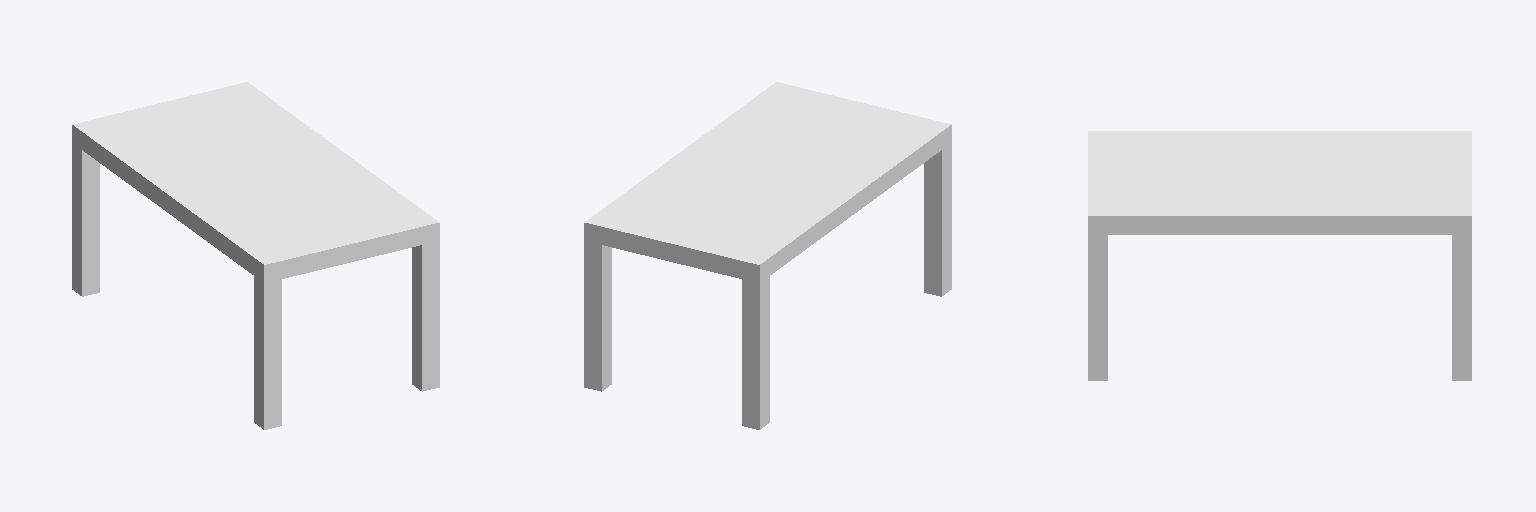
Rendered from Table01.obj.
The picture shows the model from 3 angles: view 1: azimuth 30°, elevation 25°; view 2: azimuth 150°, elevation 25°; view 3: azimuth 270°, elevation 25°; orthographic projection.
Visible parts, largest first — view 1: object 1; view 2: object 1; view 3: object 1.
Boxes of the visible parts, <box> form: object 1: <box>72,82,439,429</box>; object 1: <box>584,82,951,429</box>; object 1: <box>1088,131,1471,380</box>.
Bounding box in the file's own units: 1 × 0.9 × 1.9.